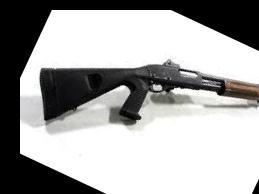larga: (39, 59, 259, 122)
